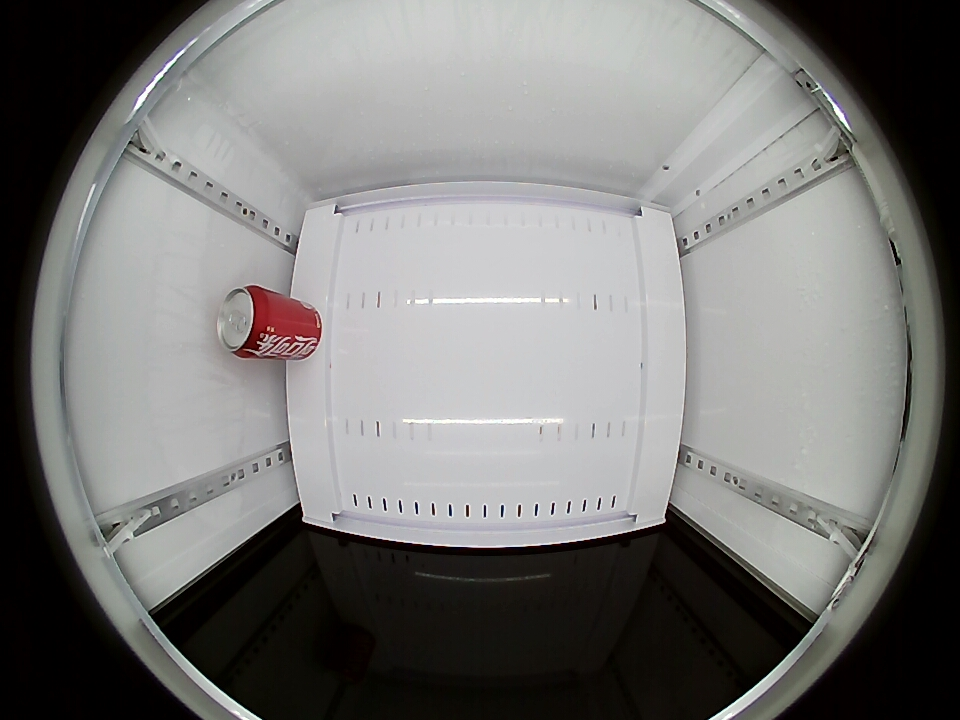kele: (216, 285, 272, 358)
